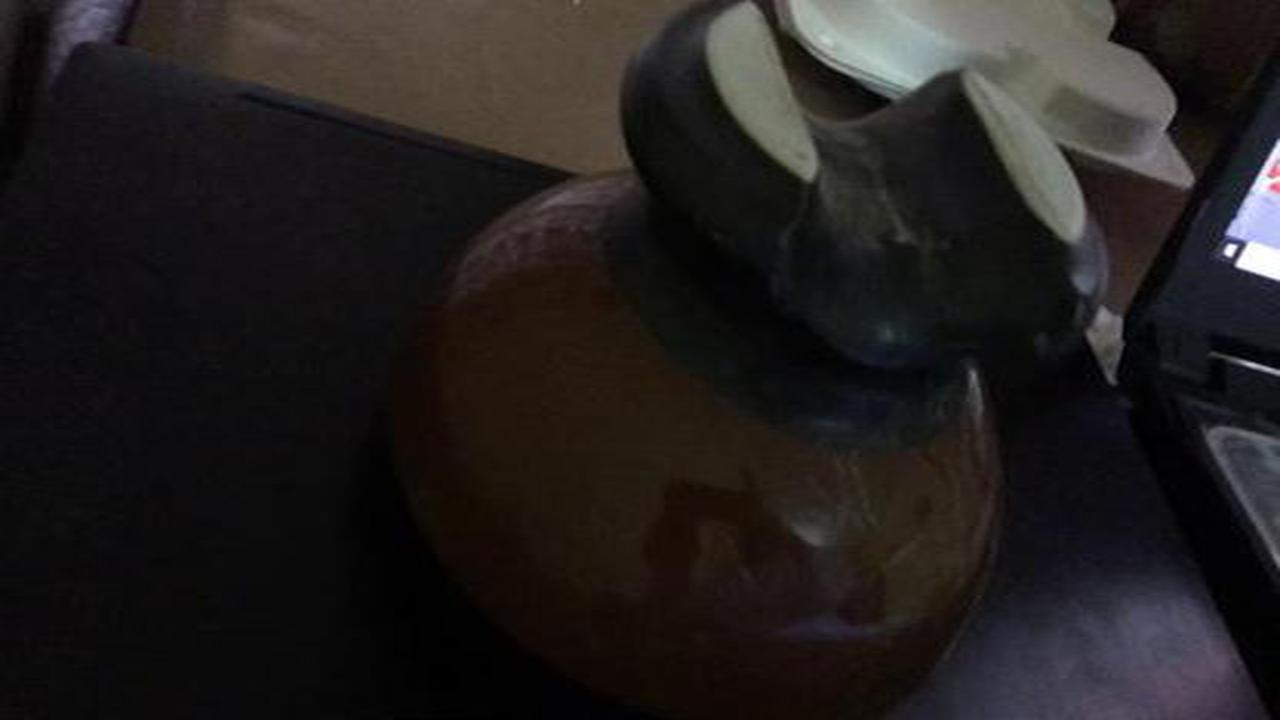insulator_pin: (379, 6, 1136, 710)
